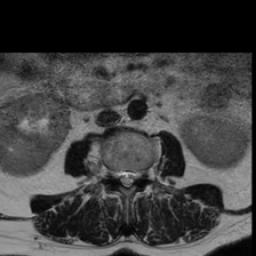CCS_stenosis: (123, 163, 130, 193)
LFS_normal: (137, 161, 146, 185)
LLS_normal: (130, 165, 137, 189)
RFS_normal: (110, 161, 116, 188)
RLS_normal: (116, 164, 123, 188)
